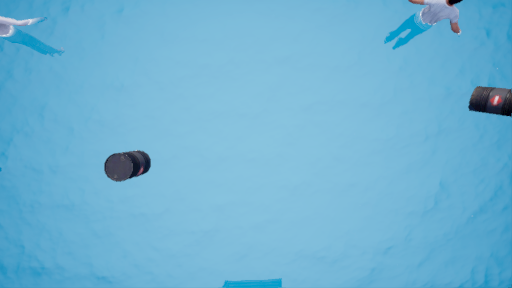person: (391, 1, 460, 63)
